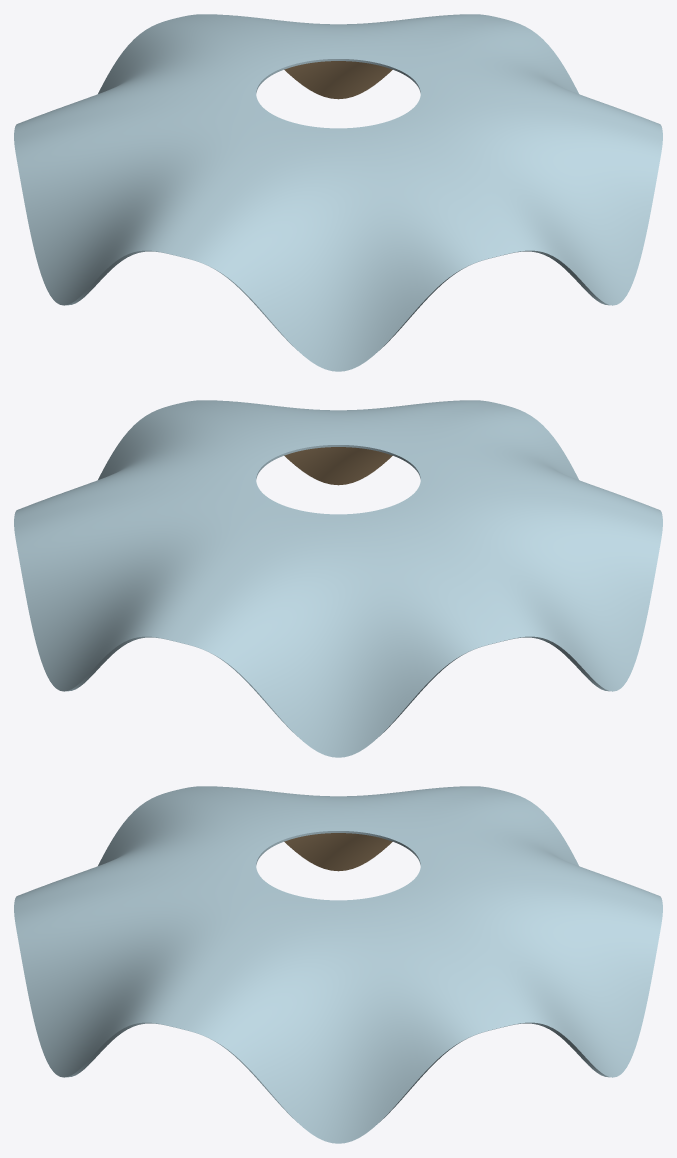
File: roof-six-feet.glb
3 views of the same model, one above another, from view 1: azimuth 30°, elevation 25°; view 2: azimuth 150°, elevation 25°; view 3: azimuth 270°, elevation 25° (orthographic).
Visible parts, largest first — view 1: six-foot-roof; view 2: six-foot-roof; view 3: six-foot-roof.
Boxes of the visible parts, x1=… form: six-foot-roof: x1=14, y1=14, x2=662, y2=371; six-foot-roof: x1=14, y1=400, x2=662, y2=757; six-foot-roof: x1=14, y1=786, x2=662, y2=1143.
Size of the model in its own units: 17.75 by 4.25 by 17.7.
